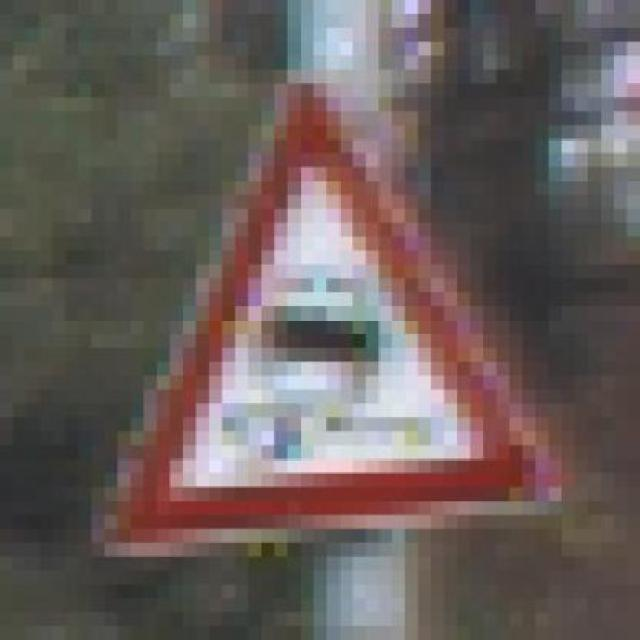Slippery Road Ahead: (78, 55, 574, 543)
